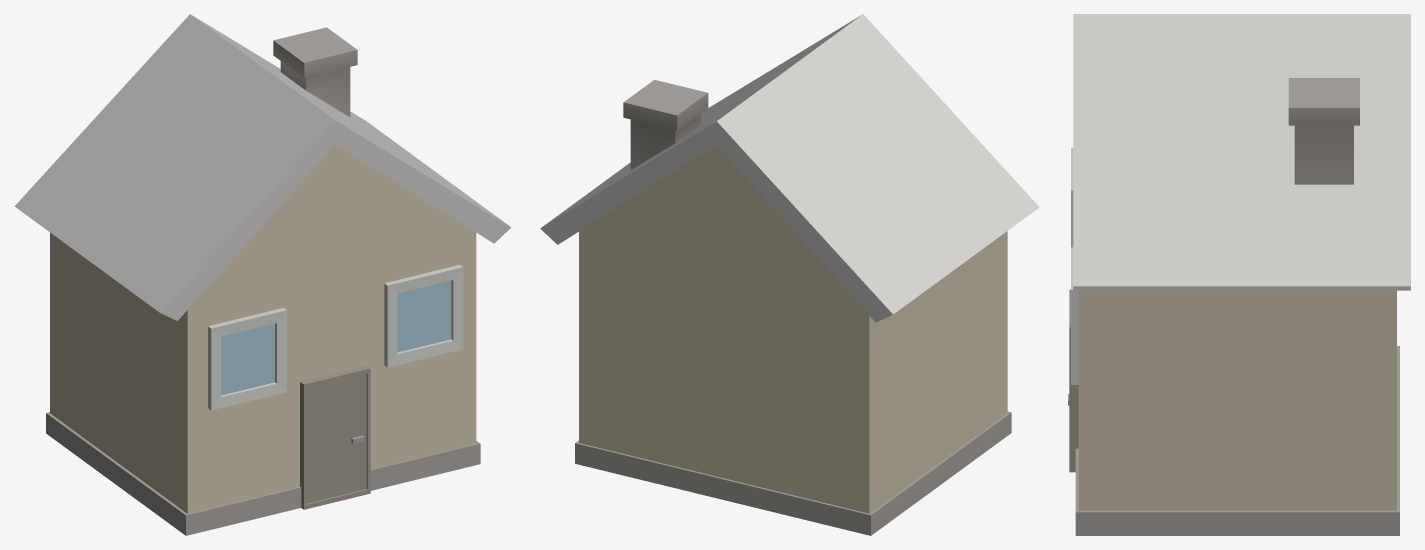
Rendered from suburb_otherhouse.fbx.
3 renders of one model, left to right at view 1: azimuth 30°, elevation 25°; view 2: azimuth 150°, elevation 25°; view 3: azimuth 270°, elevation 25°, orthographic. The views are drawn at different scales.
Parts seen in each view (by area): view 1: polySurface5; view 2: polySurface5; view 3: polySurface5.
Boxes of the visible parts, <box> form: polySurface5: <box>14,14,511,535</box>; polySurface5: <box>540,14,1039,535</box>; polySurface5: <box>1068,14,1410,535</box>.
Size of the model in its own units: 12.59 by 13.01 by 9.19.
